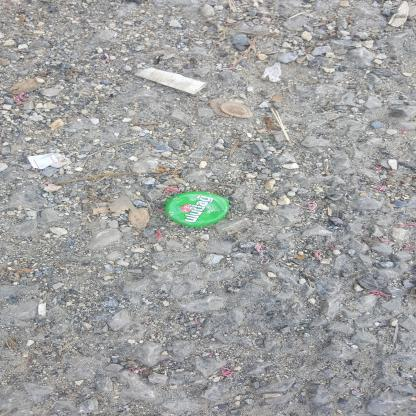metal: (192, 188, 230, 253)
